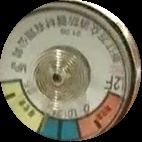green: (39, 112, 82, 142)
red: (76, 91, 123, 141)
yellow: (2, 79, 46, 135)
